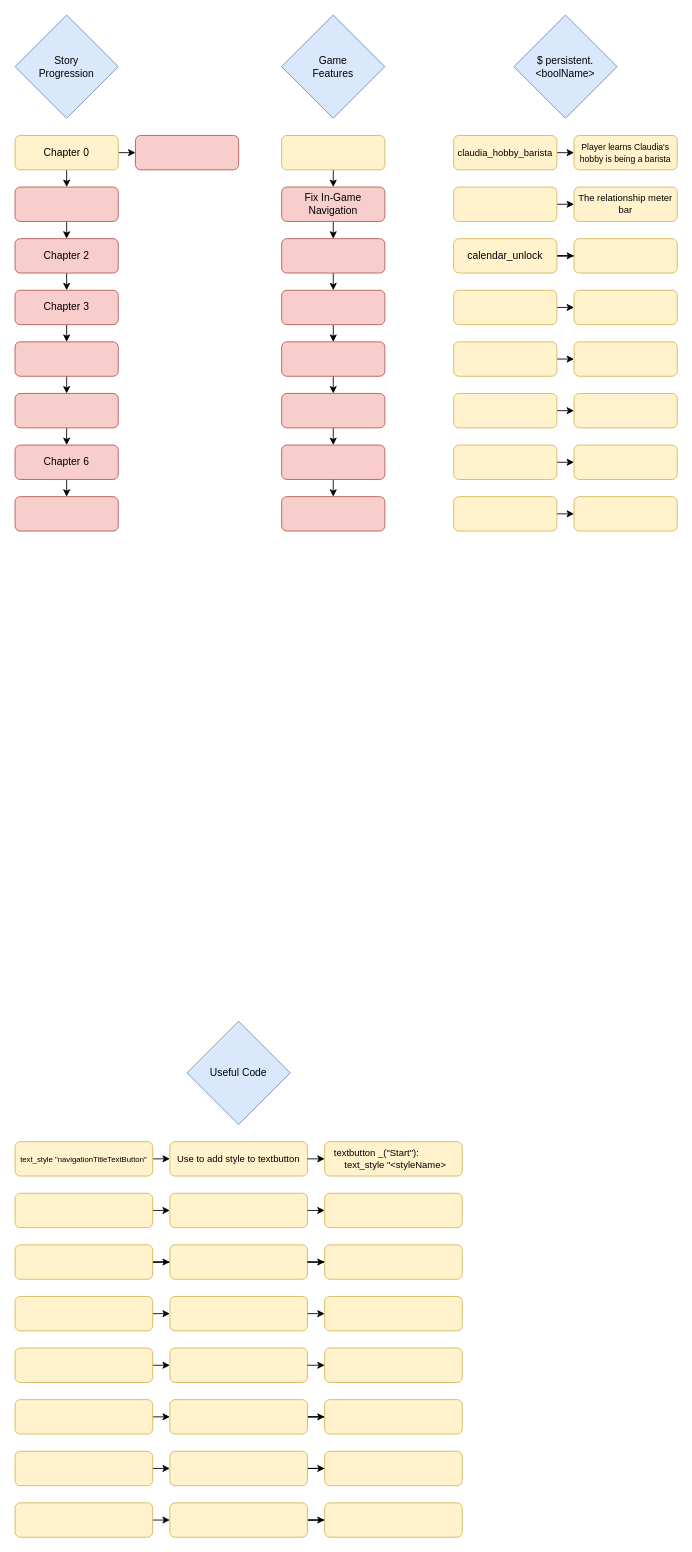
This 692x1552 diagram has some shape labels left out. Each missing label, with the box of its shape:
Chapter 1: (14, 186, 118, 221)
Chapter 4: (14, 341, 118, 376)
Chapter 5: (14, 393, 118, 428)
Chapter 7: (14, 496, 118, 531)
Displays the "calendar" button on game_menu: (573, 238, 677, 273)
Journal Writing Intro: (135, 135, 239, 170)
Relationship Bar: (281, 135, 385, 170)
taro_claudia_interest: (453, 186, 557, 221)
